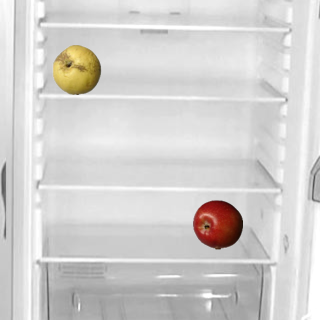Apple Braeburn: (192, 199, 242, 249)
Apple Golden 1: (51, 44, 101, 94)
